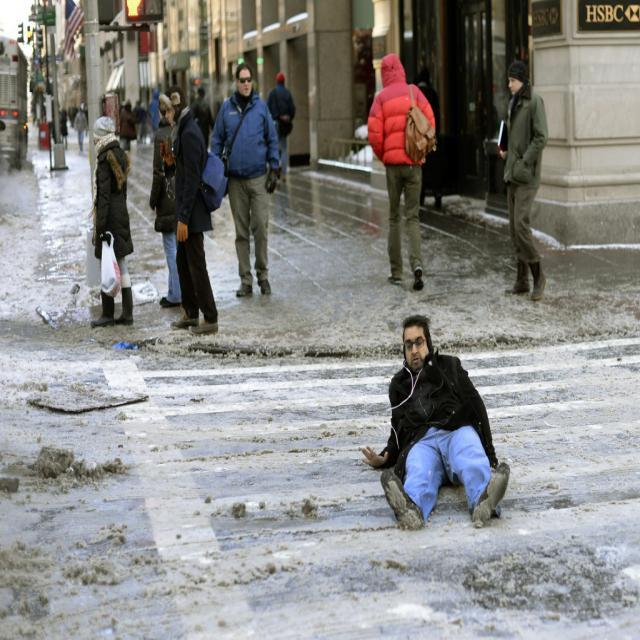fall: (364, 305, 509, 529)
